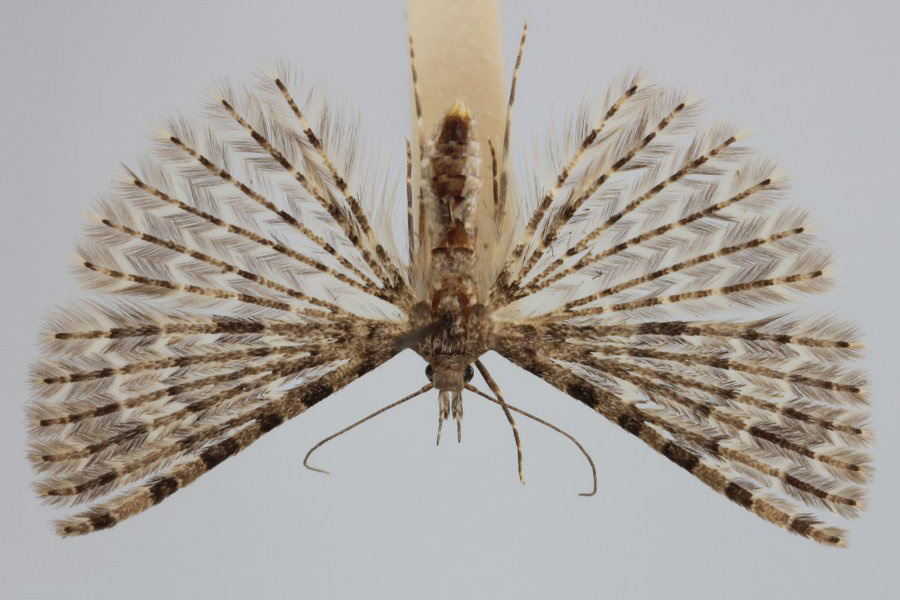Alucitidae: (24, 22, 872, 561)
moth: (26, 24, 874, 563)
